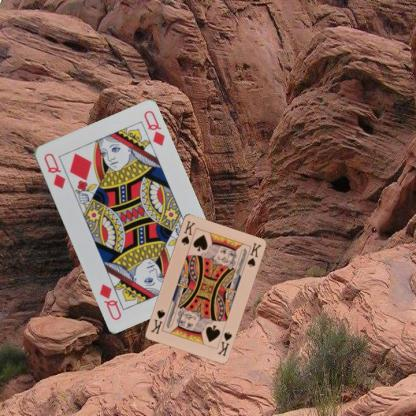Ks: (178, 218, 196, 246), (215, 329, 233, 357)
Qd: (40, 150, 66, 190)
